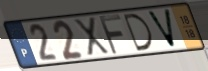2: (52, 18, 86, 62), (29, 22, 59, 62)
D: (121, 12, 154, 53)
F: (97, 13, 127, 57)
V: (145, 8, 178, 50)
X: (72, 16, 112, 58)
